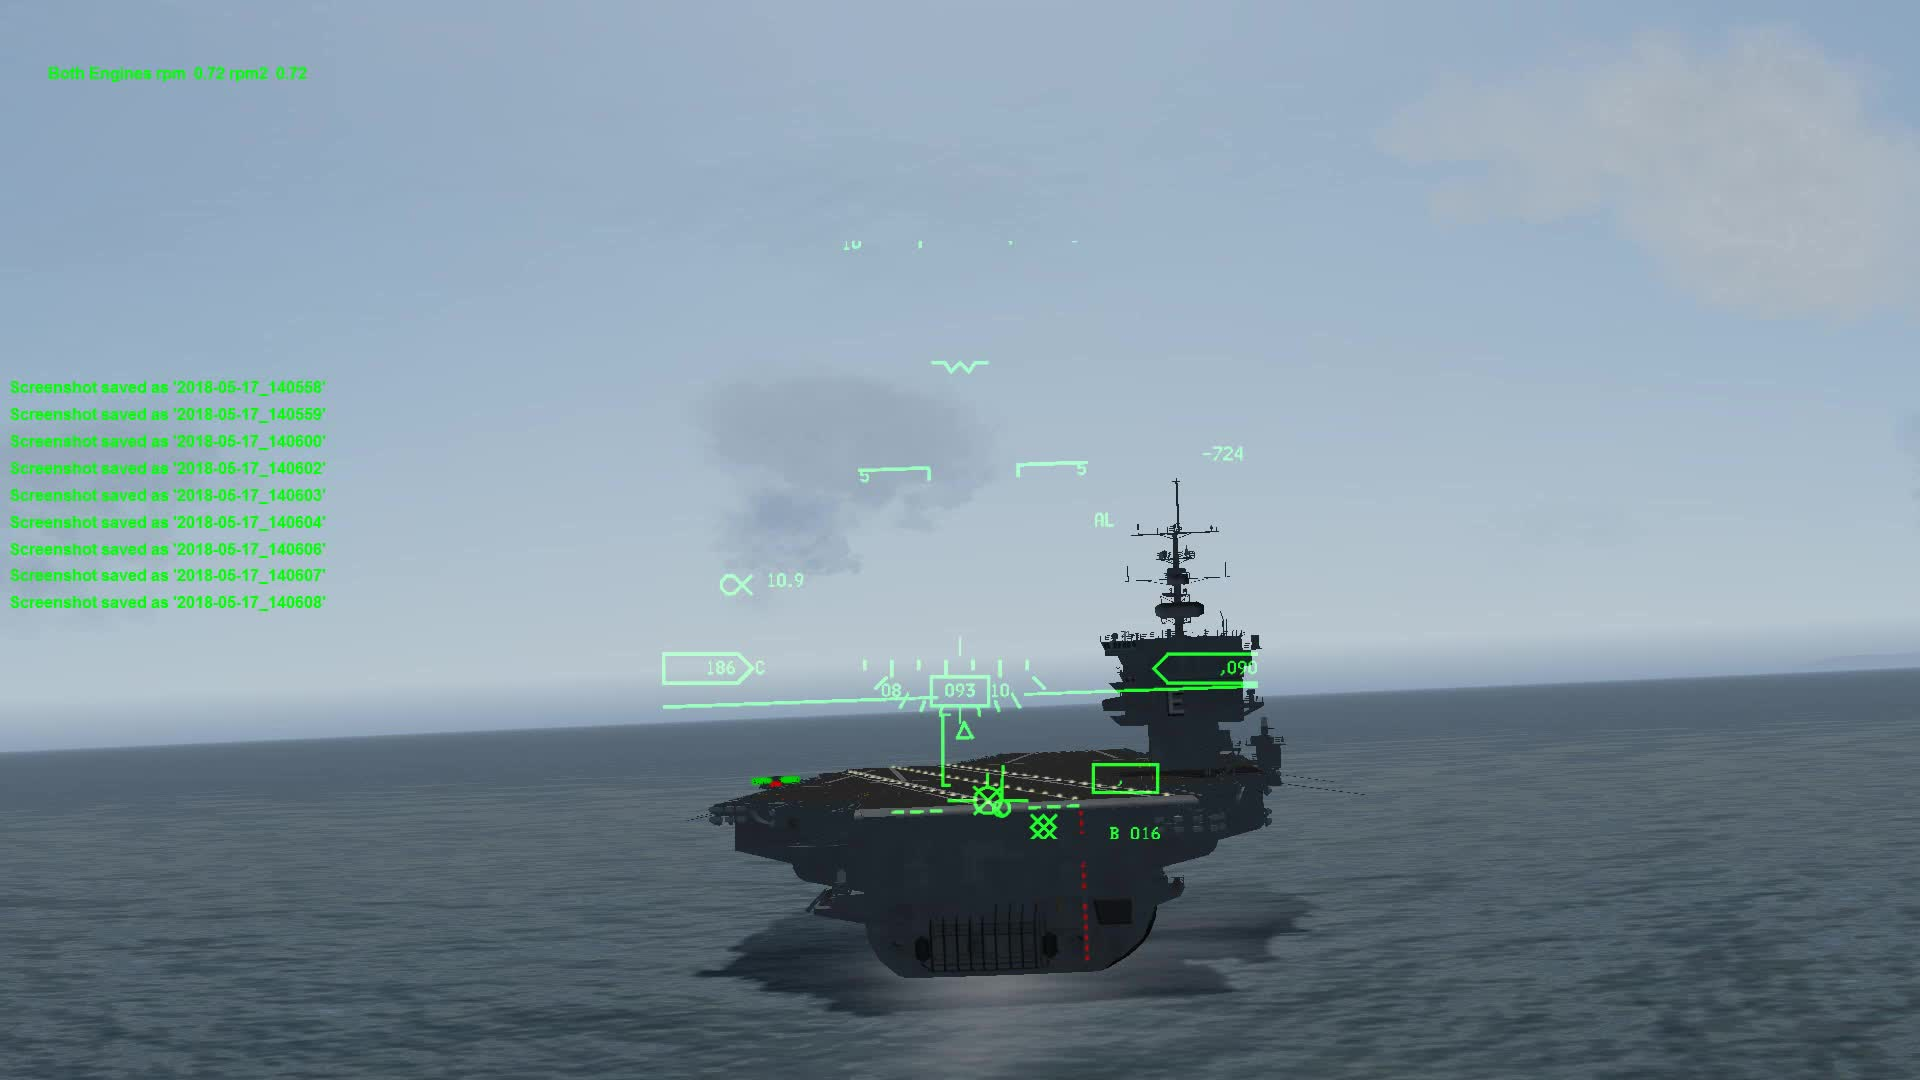speed vector: (951, 771, 1026, 814)
